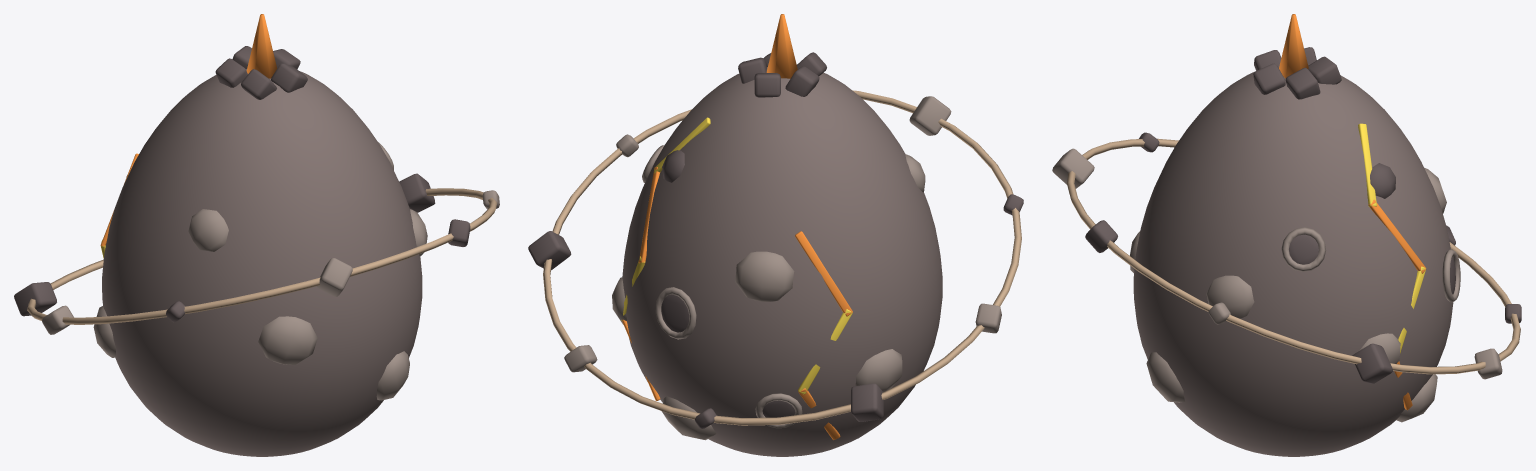
The model's file is egg_asteroid.fbx.
The picture shows the model from 3 angles, left to right: view 1: azimuth 30°, elevation 25°; view 2: azimuth 150°, elevation 25°; view 3: azimuth 270°, elevation 25°; orthographic projection.
Visible parts, largest first — view 1: egg_asteroid; view 2: egg_asteroid; view 3: egg_asteroid.
Boxes of the visible parts, left/top/right/bottom form: egg_asteroid: left=14, top=14, right=499, bottom=456; egg_asteroid: left=528, top=14, right=1023, bottom=456; egg_asteroid: left=1052, top=14, right=1521, bottom=456.
Bounding box in the file's own units: 7.49 × 7.15 × 7.12.
1 material, 1 textured.
